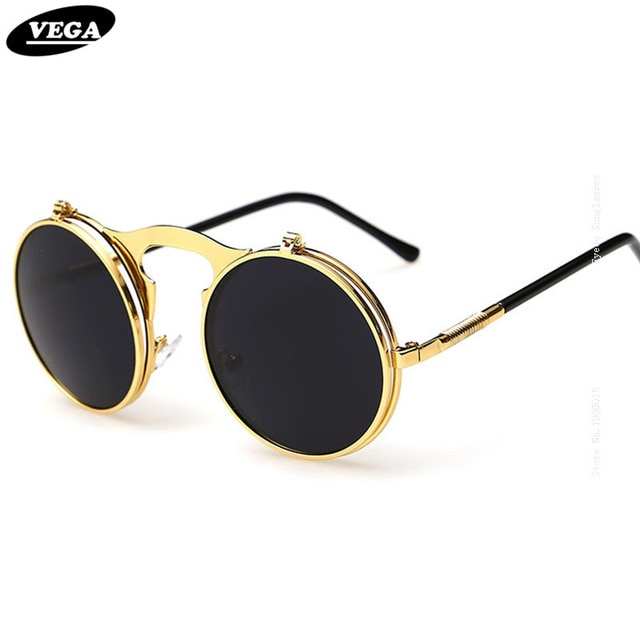sunglasses: (17, 204, 537, 483)
